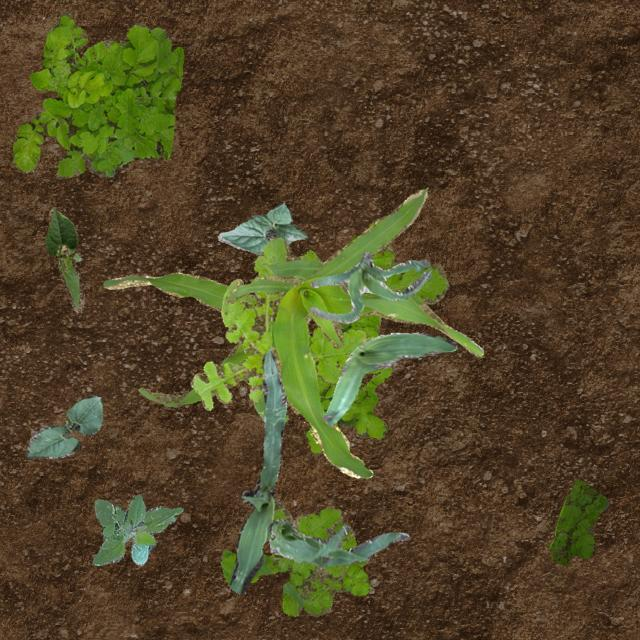crop: (225, 187, 482, 478), (102, 270, 255, 406), (228, 348, 286, 594), (320, 332, 456, 424), (308, 250, 431, 322), (267, 518, 408, 566), (92, 494, 182, 564), (24, 394, 102, 458), (216, 202, 306, 254), (44, 206, 84, 312)
weed: (304, 217, 448, 453), (190, 236, 372, 418), (11, 11, 182, 178), (220, 494, 370, 616), (548, 478, 608, 564)
